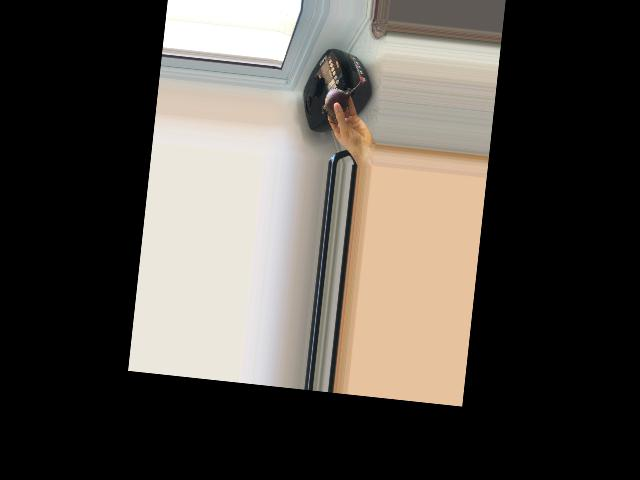beet: (320, 77, 361, 125)
